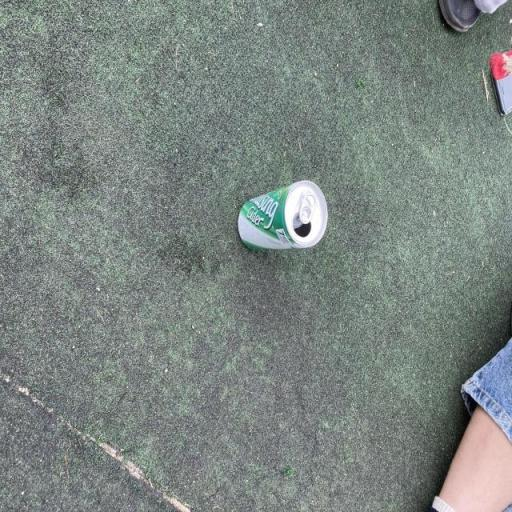metal: (213, 166, 340, 278)
